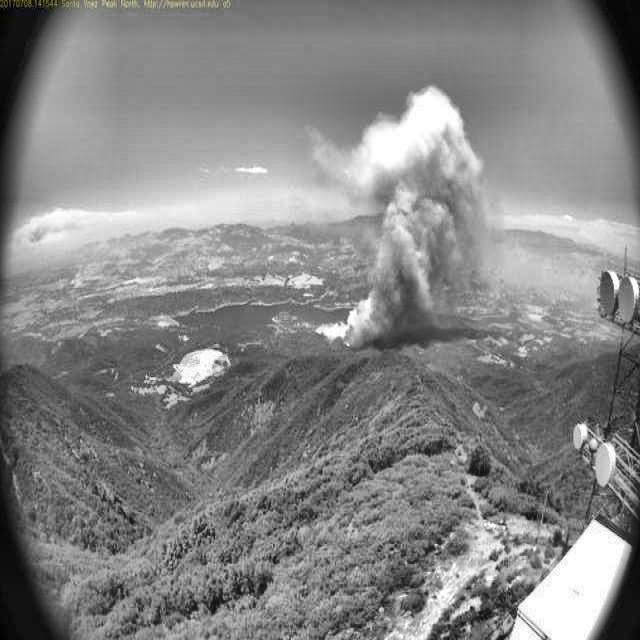smoke: (308, 81, 511, 344)
